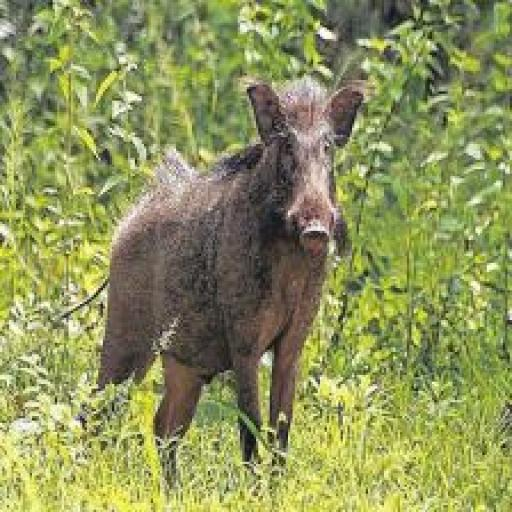Pig: (96, 73, 376, 490), (382, 57, 384, 73)
